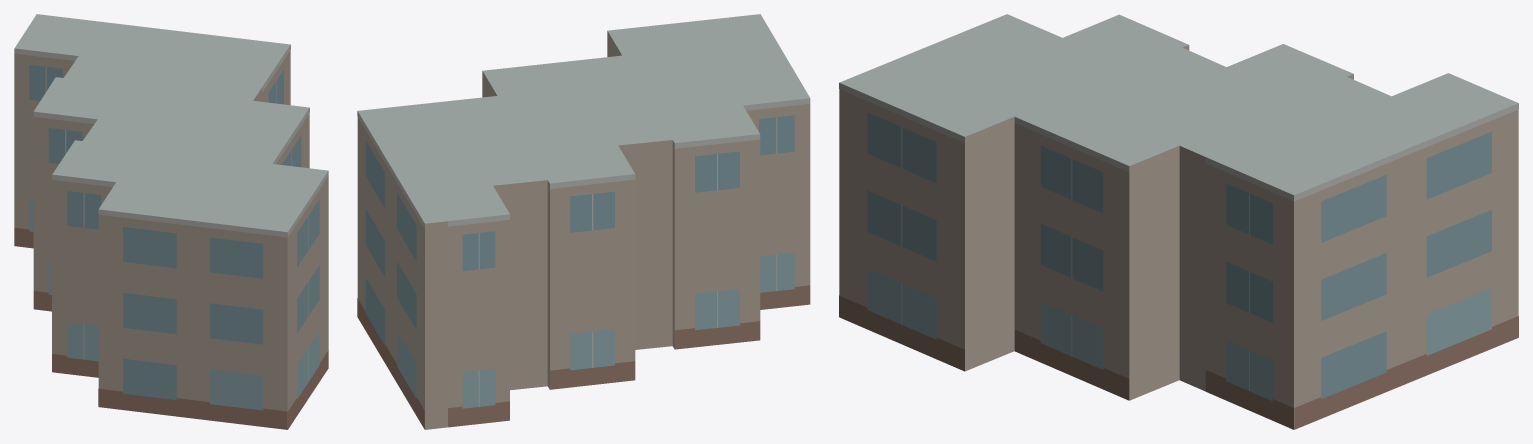
Rendered from survey-upis-32474414.glb.
3 renders of one model, left to right at view 1: azimuth 30°, elevation 25°; view 2: azimuth 150°, elevation 25°; view 3: azimuth 270°, elevation 25°, orthographic. The views are drawn at different scales.
Visible parts, largest first — view 1: survey-upis-32474414.tmp; view 2: survey-upis-32474414.tmp; view 3: survey-upis-32474414.tmp.
Part boxes in pixels (<box>): survey-upis-32474414.tmp: <box>14,14,328,429</box>; survey-upis-32474414.tmp: <box>357,14,810,429</box>; survey-upis-32474414.tmp: <box>839,14,1518,429</box>.
Bounding box in the file's own units: 15.18 × 9.15 × 24.03.
